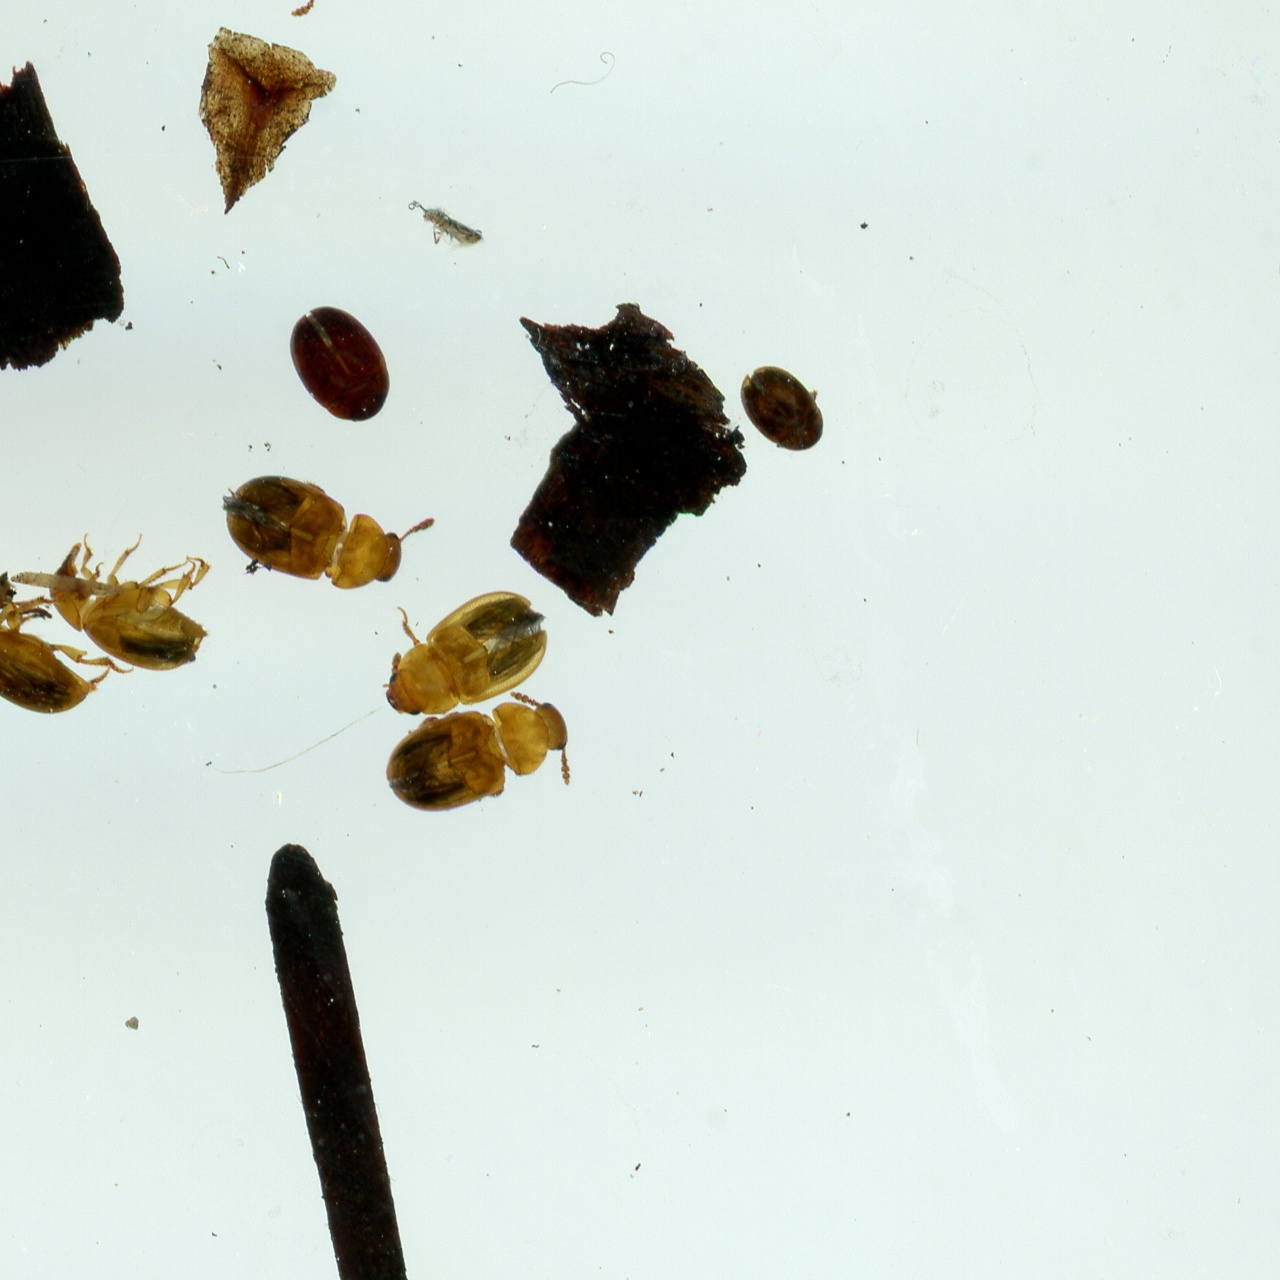arthropod: (216, 462, 449, 591), (382, 551, 535, 726), (61, 525, 238, 665), (388, 703, 574, 811), (286, 281, 397, 424), (0, 568, 74, 737), (735, 365, 829, 452), (403, 196, 490, 252), (190, 0, 367, 18)
